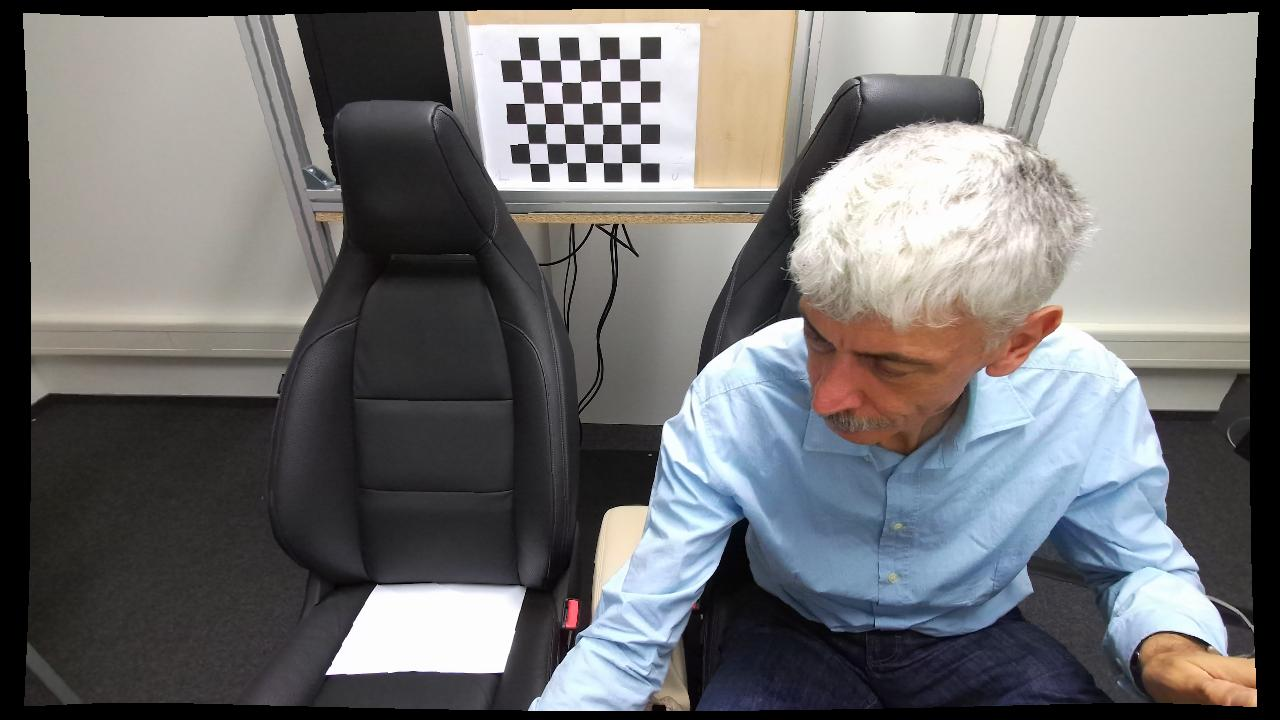Distracted: (530, 118, 1197, 710)
